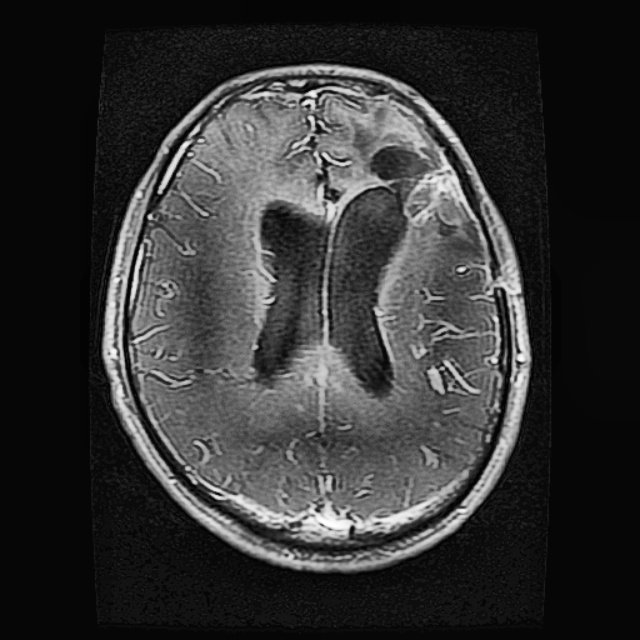Meningioma: (348, 103, 484, 250)
